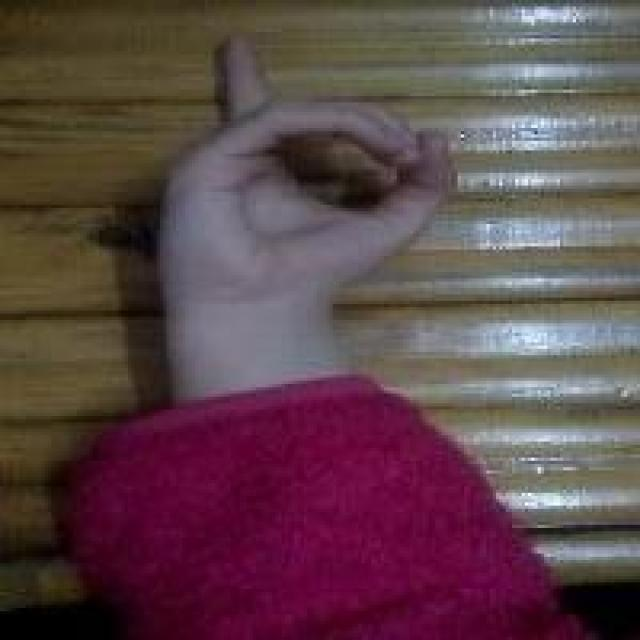D: (152, 36, 453, 322)
